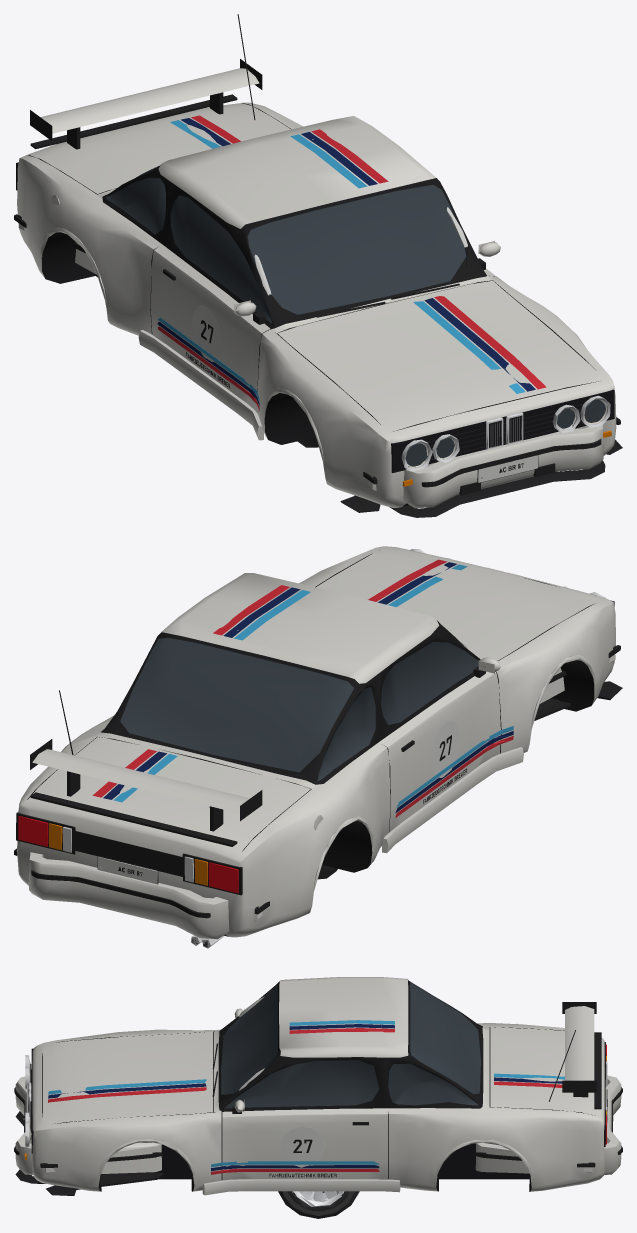
3 renders of one model, top to bottom at view 1: azimuth 30°, elevation 25°; view 2: azimuth 150°, elevation 25°; view 3: azimuth 270°, elevation 25°, orthographic. The views are drawn at different scales.
Visible parts, largest first — view 1: body; view 2: body; view 3: body, wheel.
Boxes of the visible parts, x1,y1,x2,y2 form: body: (14, 14, 622, 517); body: (14, 546, 622, 948); body: (14, 977, 622, 1195); wheel: (278, 1191, 359, 1218).
Size of the model in its own units: 1.87 by 1.82 by 4.62.
